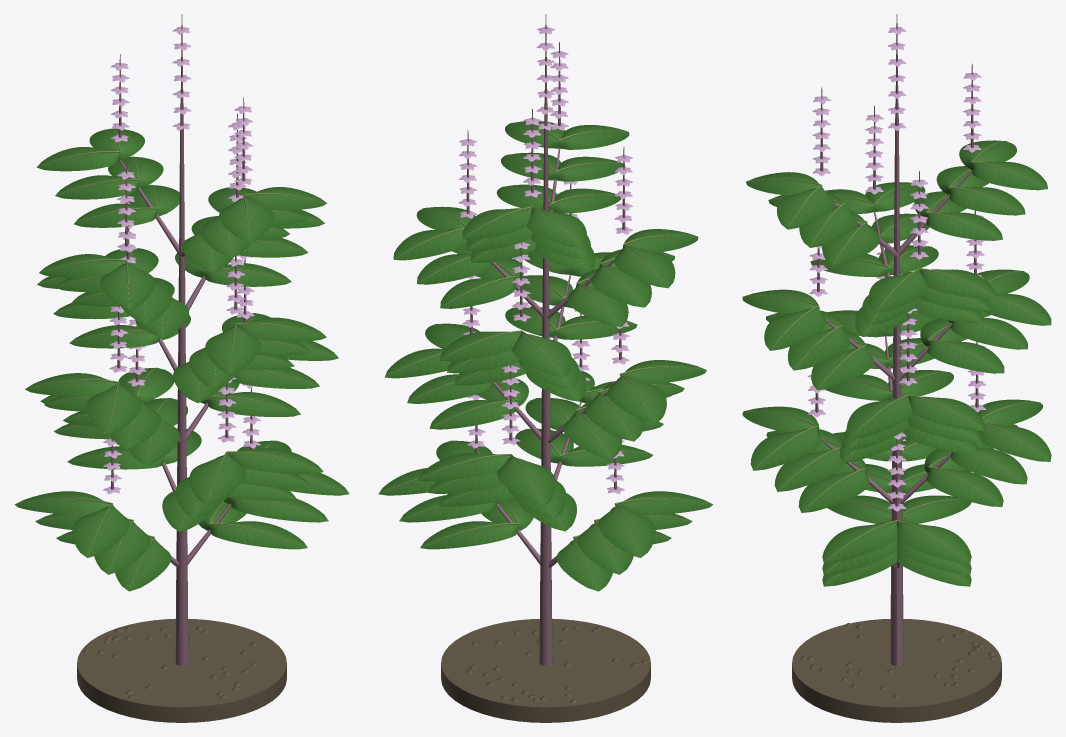
Rendered from tulsi.glb.
3 views of the same model, side by side, from view 1: azimuth 30°, elevation 25°; view 2: azimuth 150°, elevation 25°; view 3: azimuth 270°, elevation 25° (orthographic).
Parts seen in each view (by area): view 1: tulsi; view 2: tulsi; view 3: tulsi.
Part boxes in pixels (box(x1,y1,x2,y2)): tulsi: box(14, 14, 349, 722); tulsi: box(378, 14, 713, 722); tulsi: box(742, 14, 1051, 722).
Bounding box in the file's own units: 0.2512 × 0.594 × 0.2506.
5 materials, 1 textured.
